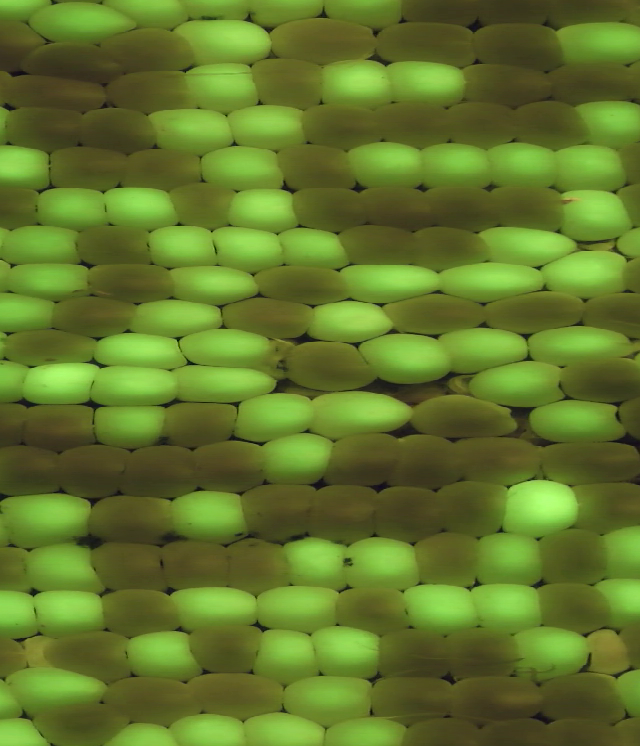fluorescent: (0, 660, 114, 721), (305, 385, 414, 443), (0, 487, 101, 549), (351, 330, 457, 389), (459, 356, 572, 411), (493, 474, 585, 540), (170, 15, 278, 71), (21, 536, 114, 601), (505, 621, 594, 687), (520, 321, 639, 370), (251, 422, 339, 488), (276, 674, 379, 730), (434, 259, 551, 308), (522, 393, 629, 446), (24, 1, 139, 50), (227, 386, 319, 447), (164, 584, 262, 641), (337, 532, 426, 594), (171, 322, 276, 374), (118, 623, 209, 683), (399, 579, 487, 641), (537, 245, 636, 300), (306, 621, 389, 686), (80, 362, 190, 411), (220, 96, 316, 152), (334, 259, 448, 306), (301, 297, 404, 349), (166, 362, 287, 406), (340, 137, 430, 196), (251, 582, 346, 637), (167, 487, 254, 547), (195, 141, 297, 192), (160, 260, 266, 309), (410, 139, 501, 196), (474, 223, 589, 268), (548, 18, 640, 74), (434, 325, 533, 377), (478, 136, 565, 195), (143, 106, 238, 160), (382, 56, 471, 113), (549, 141, 638, 198), (179, 58, 264, 117), (122, 295, 233, 340), (84, 400, 178, 453), (556, 186, 639, 246), (312, 55, 401, 110), (88, 327, 193, 373), (0, 220, 94, 271), (470, 530, 551, 589), (247, 626, 324, 687), (282, 534, 354, 599), (29, 585, 108, 644), (98, 181, 185, 234), (13, 360, 103, 411), (207, 219, 290, 273), (221, 182, 302, 237), (30, 183, 114, 236), (1, 261, 100, 305), (465, 579, 542, 635), (568, 97, 640, 155), (276, 222, 354, 275), (143, 222, 223, 271), (236, 709, 333, 746), (162, 711, 263, 746), (96, 1, 197, 35), (0, 141, 57, 195), (317, 1, 409, 34), (587, 573, 640, 630), (320, 715, 416, 746), (596, 520, 640, 586), (0, 289, 59, 336), (0, 582, 41, 642), (99, 718, 183, 746), (0, 711, 59, 746), (609, 662, 640, 728), (0, 356, 37, 410), (0, 669, 30, 731), (0, 1, 61, 24)
nonfluorescent: (279, 336, 384, 398), (365, 16, 481, 72), (259, 15, 383, 67), (99, 672, 208, 730), (408, 391, 529, 443), (315, 425, 407, 493), (93, 22, 201, 79), (478, 285, 594, 338), (183, 667, 292, 723), (464, 19, 569, 77), (376, 290, 493, 341), (83, 490, 179, 551), (77, 256, 183, 310), (532, 434, 640, 487), (503, 96, 600, 155), (438, 623, 530, 685), (45, 627, 140, 687), (85, 535, 175, 598), (14, 36, 125, 87), (532, 669, 631, 726), (447, 672, 553, 725), (453, 58, 561, 110), (0, 66, 111, 116), (46, 442, 138, 502), (237, 478, 320, 544), (156, 532, 239, 597), (118, 440, 202, 504), (381, 433, 470, 493), (99, 65, 207, 114), (366, 480, 446, 546), (327, 581, 418, 639), (301, 481, 382, 546), (292, 100, 391, 153), (251, 261, 358, 310), (532, 525, 615, 588), (0, 101, 89, 159), (531, 577, 620, 635), (271, 141, 364, 196), (369, 97, 460, 153), (28, 699, 136, 746), (374, 624, 460, 683), (95, 584, 184, 641), (334, 218, 426, 273), (182, 620, 269, 678), (366, 671, 464, 722), (544, 56, 640, 108), (19, 398, 103, 457), (438, 95, 528, 150), (433, 475, 511, 538), (406, 528, 484, 591), (0, 325, 109, 370), (446, 433, 542, 484), (215, 294, 319, 341), (189, 436, 269, 497), (44, 141, 133, 195), (559, 479, 640, 538), (159, 397, 244, 453), (111, 145, 212, 192), (220, 534, 294, 598), (287, 182, 376, 235), (73, 104, 163, 156), (560, 351, 640, 409), (485, 181, 569, 236), (408, 222, 495, 275), (46, 293, 143, 340), (421, 179, 502, 235), (67, 220, 157, 270), (247, 56, 326, 112), (159, 178, 242, 231), (358, 180, 437, 234), (577, 290, 640, 345), (471, 709, 557, 746), (537, 713, 631, 746), (392, 716, 493, 746), (0, 180, 51, 232), (0, 16, 46, 73), (0, 396, 32, 457), (0, 629, 35, 679), (607, 178, 640, 230), (606, 711, 640, 746)
